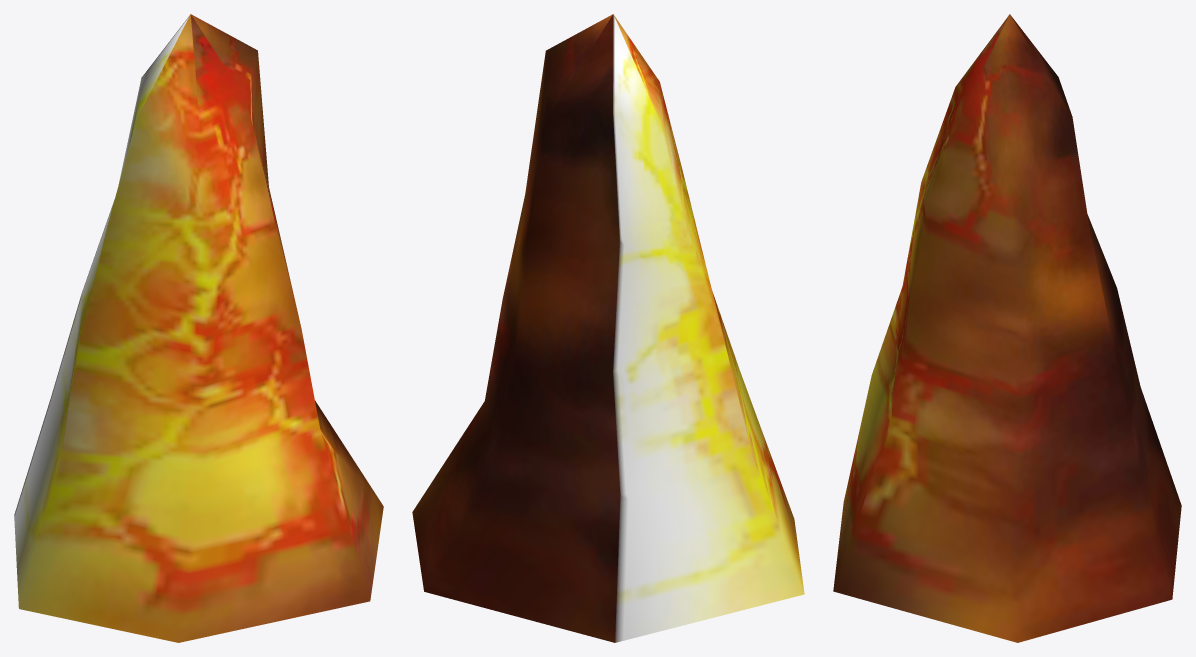
The model's file is 0304_guladuo_stone02.glb.
3 views of the same model, side by side, from view 1: azimuth 30°, elevation 25°; view 2: azimuth 150°, elevation 25°; view 3: azimuth 270°, elevation 25° (orthographic).
Bounding box in the file's own units: 1.6 × 2.2 × 1.3.
Materials: 1 (1 with a texture image).
